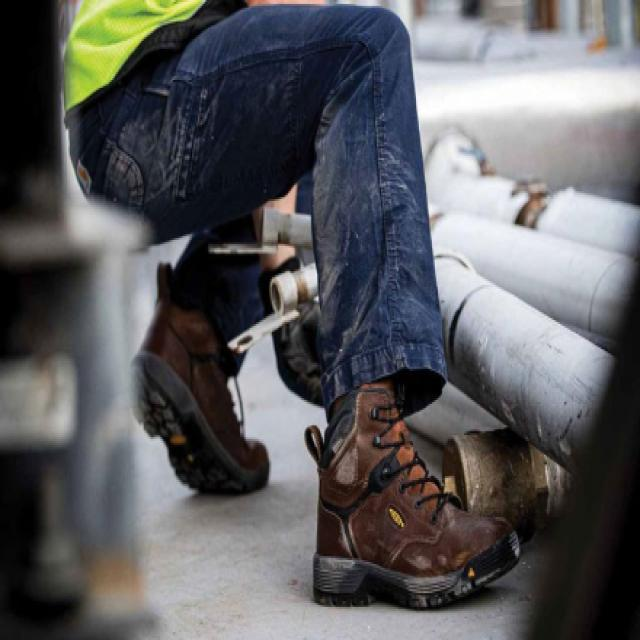boots: (123, 252, 528, 612)
